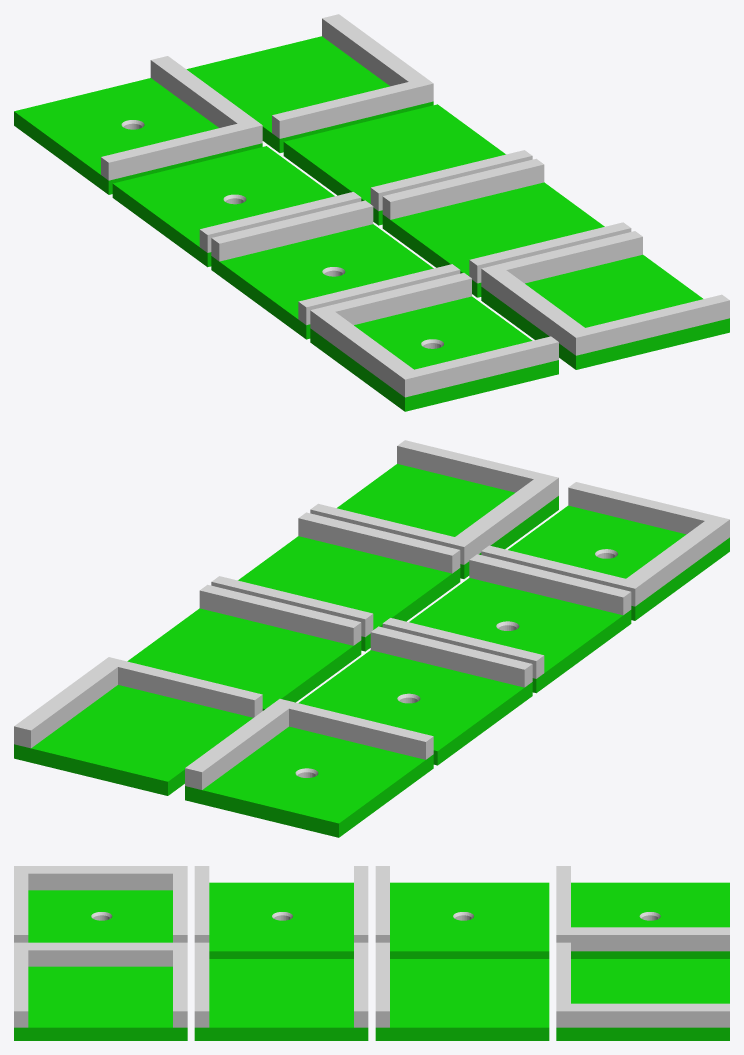
File: TileMapblend.fbx
3 views of the same model, one above another, from view 1: azimuth 30°, elevation 25°; view 2: azimuth 150°, elevation 25°; view 3: azimuth 270°, elevation 25° (orthographic). The views are drawn at different scales.
Parts seen in each view (by area): view 1: Cube.007, Cube.003, Cube.006, Cube.002, Cube.004, Cube, Cube.005, Cube.001; view 2: Cube.006, Cube.002, Cube.004, Cube.007, Cube.005, Cube, Cube.003, Cube.001; view 3: Cube.003, Cube, Cube.001, Cube.002, Cube.004, Cube.005, Cube.006, Cube.007.
Part boxes in pixels (box(x1,y1,x2,y2)): Cube.007: box(310, 273, 558, 411); Cube.003: box(481, 231, 729, 369); Cube.006: box(14, 56, 262, 194); Cube.002: box(186, 14, 433, 152); Cube.004: box(211, 200, 460, 339); Cube: box(382, 158, 631, 297); Cube.005: box(112, 146, 361, 267); Cube.001: box(283, 104, 532, 225); Cube.006: box(185, 699, 433, 837); Cube.002: box(14, 657, 262, 795); Cube.004: box(382, 554, 631, 693); Cube.007: box(481, 482, 729, 620); Cube.005: box(298, 626, 532, 765); Cube: box(211, 512, 460, 651); Cube.003: box(310, 440, 558, 578); Cube.001: box(127, 584, 361, 710); Cube.003: box(14, 942, 187, 1040); Cube: box(194, 942, 368, 1040); Cube.001: box(375, 942, 549, 1040); Cube.002: box(556, 942, 729, 1040); Cube.004: box(194, 866, 368, 958); Cube.005: box(375, 866, 549, 958); Cube.006: box(556, 866, 729, 958); Cube.007: box(14, 866, 187, 942).
Size of the model in its own units: 1900 by 180 by 3960.
